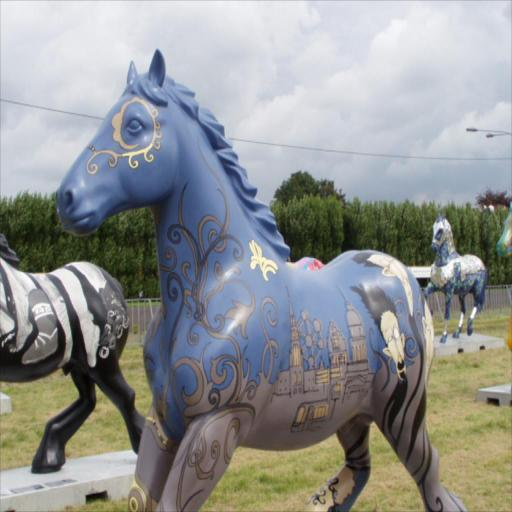horse: (53, 50, 468, 511), (0, 232, 148, 474), (425, 212, 489, 344)
